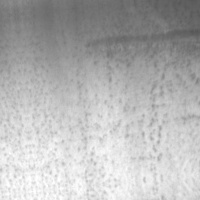pitted_surface: (18, 2, 199, 191)
